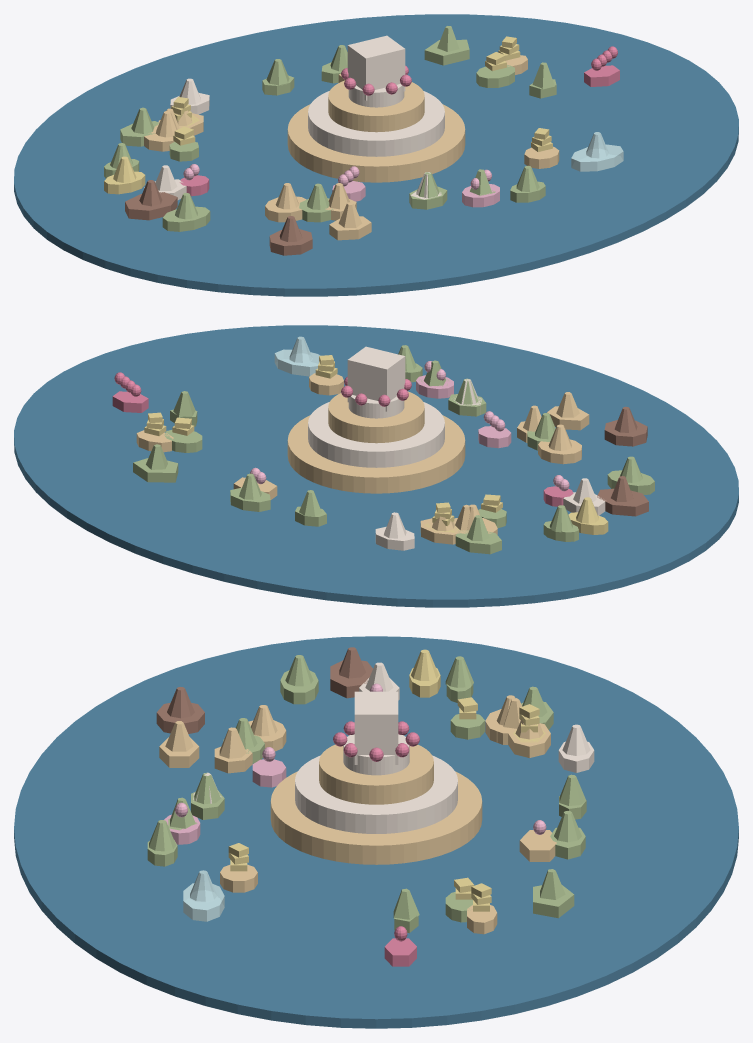
File: totto-land.glb
The picture shows the model from 3 angles, top to bottom: view 1: azimuth 30°, elevation 25°; view 2: azimuth 150°, elevation 25°; view 3: azimuth 270°, elevation 25°; orthographic projection. The views are drawn at different scales.
Parts seen in each view (by area): view 1: Totto Land ocean stage, Whole Cake tier 1, Whole Cake tier 2, Whole Cake tier 3, Whole Cake Chateau, Nuts Island addressable island, Ice Island addressable island, Whole Cake tier 4, Poripori Island addressable island, Cacao Island addressable island, Kibo Island addressable island, Cutlery Island addressable island (+9 smaller); view 2: Totto Land ocean stage, Whole Cake tier 1, Whole Cake tier 2, Whole Cake tier 3, Whole Cake Chateau, Nuts Island addressable island, Whole Cake tier 4, Cacao Island addressable island, Ice Island addressable island, Kibo Island addressable island, Black Island addressable island, Potato Island addressable island (+13 smaller); view 3: Totto Land ocean stage, Whole Cake tier 1, Whole Cake tier 2, Whole Cake tier 3, Whole Cake Chateau, Whole Cake tier 4, Ice Island addressable island, Kimi Island addressable island, Kibo Island addressable island, Nuts Island addressable island, Cacao Island addressable island, Yakigashi Island addressable island (+9 smaller).
Part boxes in pixels (<box>): Totto Land ocean stage: <box>14,14,738,296</box>; Whole Cake tier 1: <box>287,104,465,182</box>; Whole Cake tier 2: <box>308,91,444,156</box>; Whole Cake tier 3: <box>328,80,424,132</box>; Whole Cake Chateau: <box>347,35,405,100</box>; Nuts Island addressable island: <box>125,192,177,220</box>; Ice Island addressable island: <box>571,144,623,171</box>; Whole Cake tier 4: <box>348,84,404,107</box>; Poripori Island addressable island: <box>162,206,210,231</box>; Cacao Island addressable island: <box>269,229,312,255</box>; Kibo Island addressable island: <box>424,39,469,65</box>; Cutlery Island addressable island: <box>476,65,514,87</box>; Totto Land ocean stage: <box>14,325,738,607</box>; Whole Cake tier 1: <box>287,415,465,493</box>; Whole Cake tier 2: <box>308,402,444,467</box>; Whole Cake tier 3: <box>328,391,424,443</box>; Whole Cake Chateau: <box>347,346,405,411</box>; Nuts Island addressable island: <box>597,488,648,516</box>; Whole Cake tier 4: <box>348,395,404,418</box>; Cacao Island addressable island: <box>604,420,647,446</box>; Ice Island addressable island: <box>274,349,320,376</box>; Kibo Island addressable island: <box>133,458,178,482</box>; Black Island addressable island: <box>455,530,501,554</box>; Potato Island addressable island: <box>538,439,581,464</box>; Totto Land ocean stage: <box>14,636,738,1028</box>; Whole Cake tier 1: <box>270,771,482,864</box>; Whole Cake tier 2: <box>295,755,457,833</box>; Whole Cake tier 3: <box>319,744,433,804</box>; Whole Cake Chateau: <box>354,691,398,764</box>; Whole Cake tier 4: <box>343,734,409,775</box>; Ice Island addressable island: <box>183,883,224,921</box>; Kimi Island addressable island: <box>519,830,556,861</box>; Kibo Island addressable island: <box>533,885,574,918</box>; Nuts Island addressable island: <box>330,660,372,698</box>; Cacao Island addressable island: <box>156,702,204,733</box>; Yakigashi Island addressable island: <box>220,864,257,892</box>.
Bounding box in the file's own units: 30 × 4.9 × 24.
